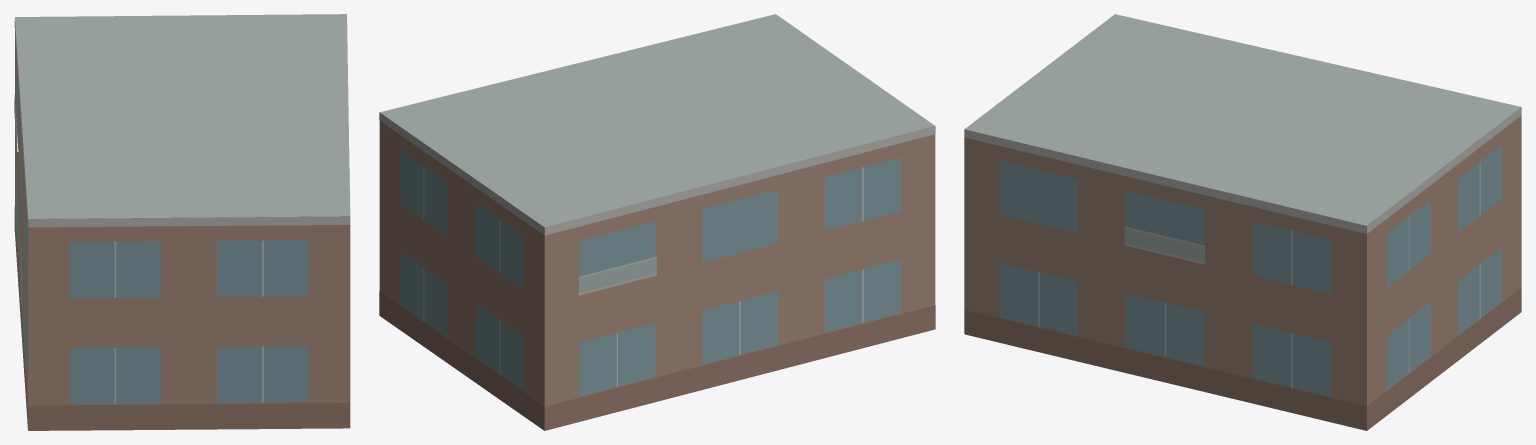
Rendered from survey-upis-33009081.glb.
3 renders of one model, left to right at view 1: azimuth 30°, elevation 25°; view 2: azimuth 150°, elevation 25°; view 3: azimuth 270°, elevation 25°, orthographic. The views are drawn at different scales.
Visible parts, largest first — view 1: survey-upis-33009081.tmp; view 2: survey-upis-33009081.tmp; view 3: survey-upis-33009081.tmp.
Part boxes in pixels (left/top/right/bottom): survey-upis-33009081.tmp: left=14, top=14, right=350, bottom=430; survey-upis-33009081.tmp: left=379, top=14, right=935, bottom=430; survey-upis-33009081.tmp: left=964, top=14, right=1521, bottom=430.
Size of the model in its own units: 13.54 by 6.1 by 15.04.
